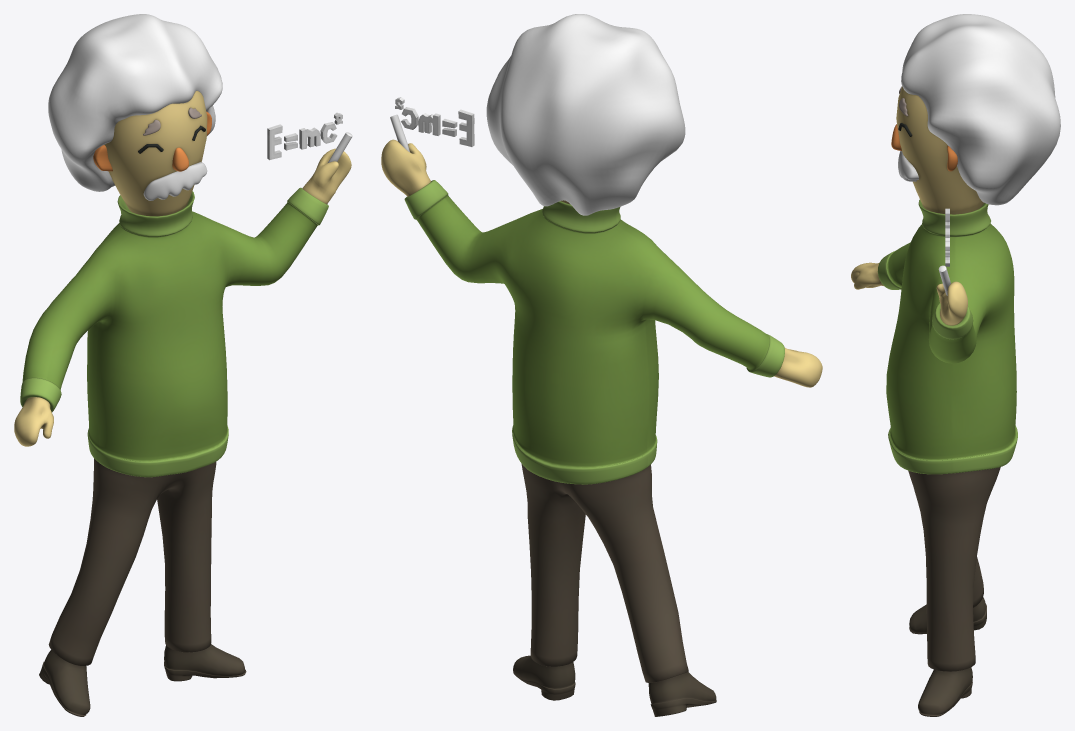
The picture shows the model from 3 angles, left to right: view 1: azimuth 30°, elevation 25°; view 2: azimuth 150°, elevation 25°; view 3: azimuth 270°, elevation 25°; orthographic projection. The views are drawn at different scales.
Parts seen in each view (by area): view 1: Top_0, Trousers_2, hair_6, head_1, shoe.l_3, Shoe.r_7, hand.r_8, hand.l_4, formula_9; view 2: Top_0, hair_6, Trousers_2, Shoe.r_7, hand.l_4, shoe.l_3, formula_9, hand.r_8; view 3: Top_0, hair_6, Trousers_2, head_1, shoe.l_3, hand.l_4, Shoe.r_7, hand.r_8.
Part boxes in pixels (<box>): Top_0: <box>20,187,328,477</box>; Trousers_2: <box>48,458,216,665</box>; hair_6: <box>48,14,222,191</box>; head_1: <box>93,91,211,216</box>; shoe.l_3: <box>164,644,246,681</box>; Shoe.r_7: <box>39,650,90,716</box>; hand.r_8: <box>14,397,53,446</box>; hand.l_4: <box>302,148,351,204</box>; formula_9: <box>267,112,342,160</box>; Top_0: <box>404,180,784,484</box>; hair_6: <box>486,14,685,215</box>; Trousers_2: <box>521,463,688,682</box>; Shoe.r_7: <box>648,672,716,716</box>; hand.l_4: <box>381,139,431,196</box>; shoe.l_3: <box>513,655,575,700</box>; formula_9: <box>395,97,474,146</box>; hand.r_8: <box>774,348,822,387</box>; Top_0: <box>877,199,1017,474</box>; hair_6: <box>901,14,1060,205</box>; Trousers_2: <box>908,467,1000,671</box>; head_1: <box>891,86,984,214</box>; shoe.l_3: <box>918,667,972,716</box>; hand.l_4: <box>936,281,967,325</box>; Shoe.r_7: <box>909,597,986,634</box>; hand.r_8: <box>851,262,883,289</box>.
Bounding box in the file's own units: 1.02 × 1.71 × 0.4969.
Materials: 1 (1 with a texture image).
